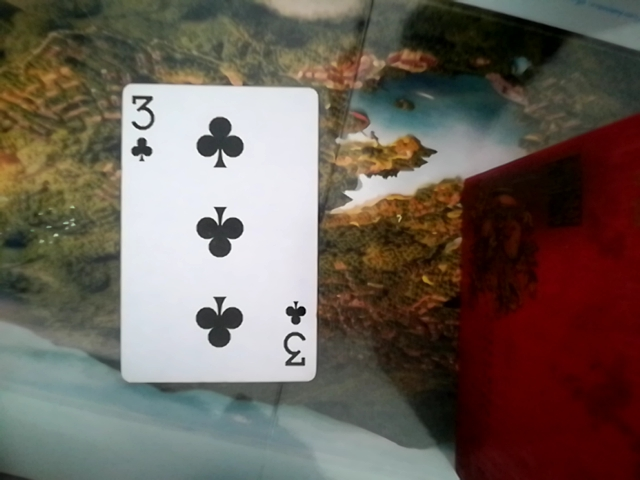mh 3: (115, 78, 316, 380)
